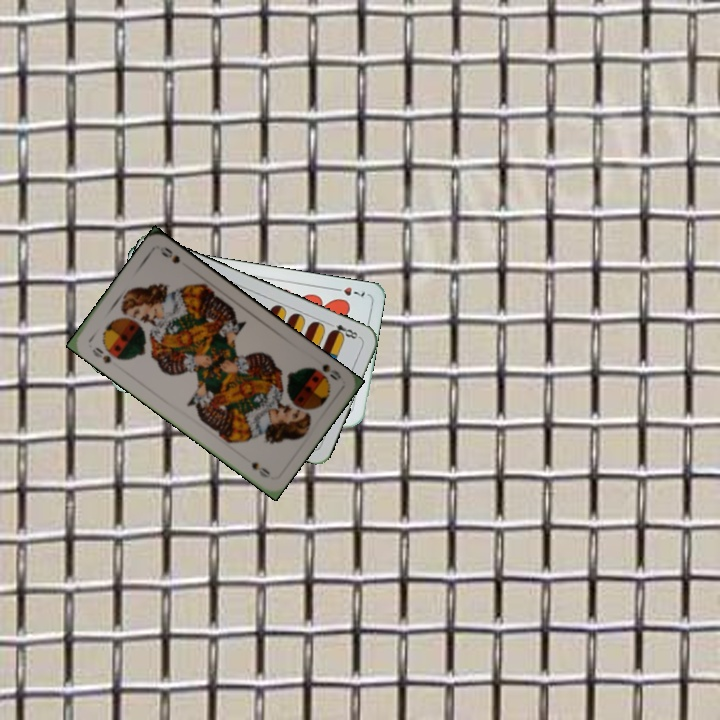E8: (324, 319, 363, 342)
H7: (329, 283, 367, 299)
SO: (305, 360, 344, 384), (88, 343, 114, 366)
